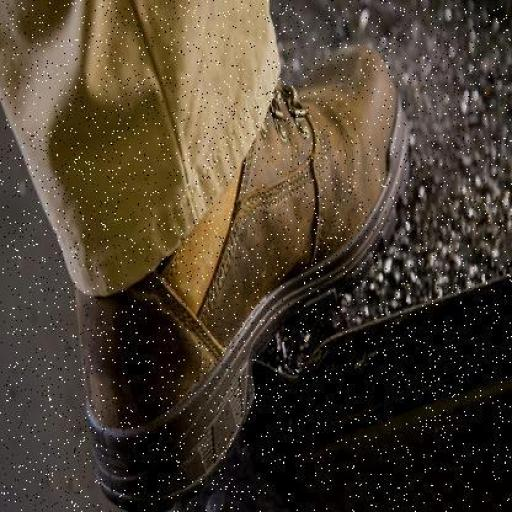safety_shoe: (85, 78, 402, 494)
